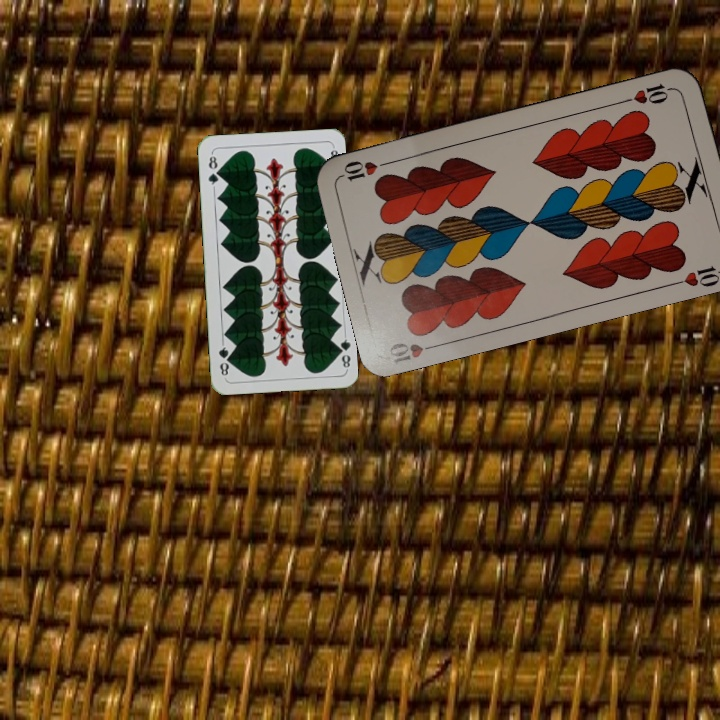G8: (332, 331, 353, 372), (204, 150, 222, 190)
H10: (384, 338, 444, 366), (619, 79, 677, 107)
